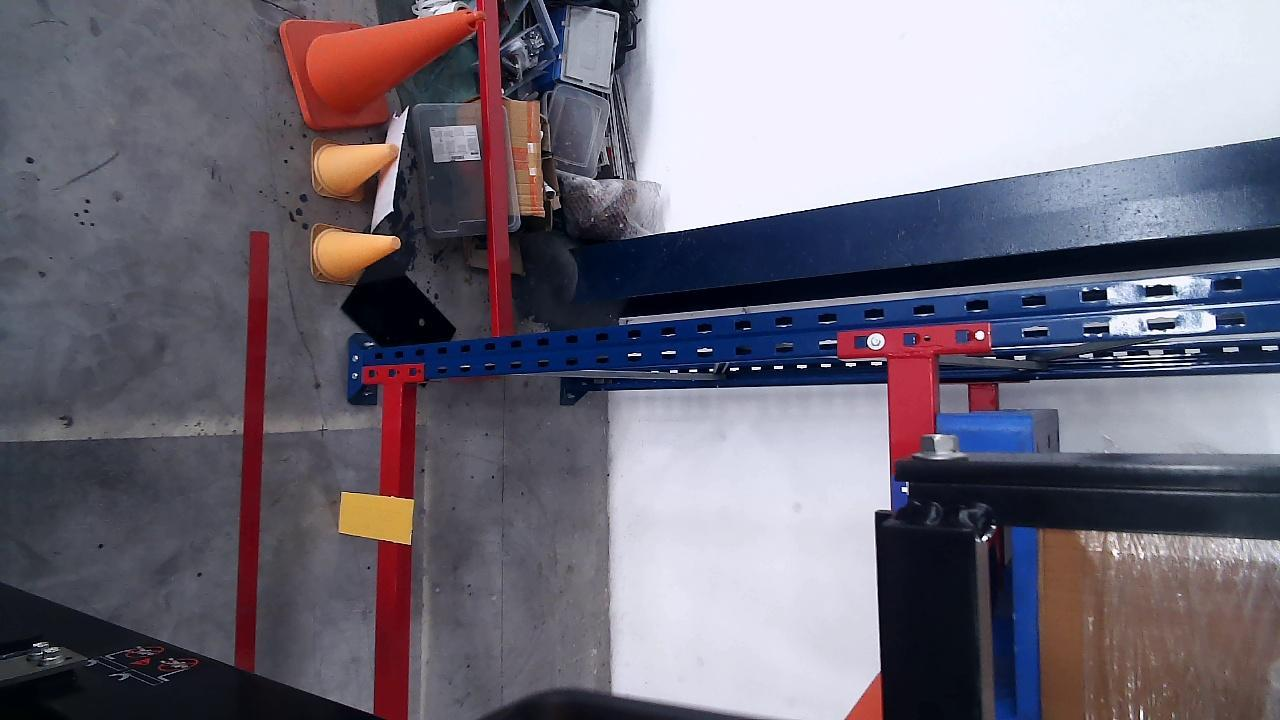h_rack: (376, 382, 404, 718)
orange_strip: (339, 494, 414, 546)
red_line: (232, 231, 269, 671)
